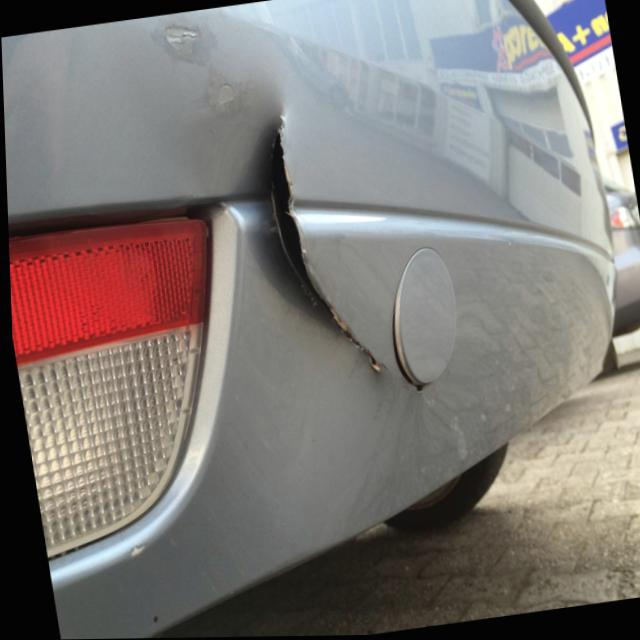Crack: (247, 101, 392, 394)
Scratch: (158, 22, 198, 55), (213, 81, 234, 108)
